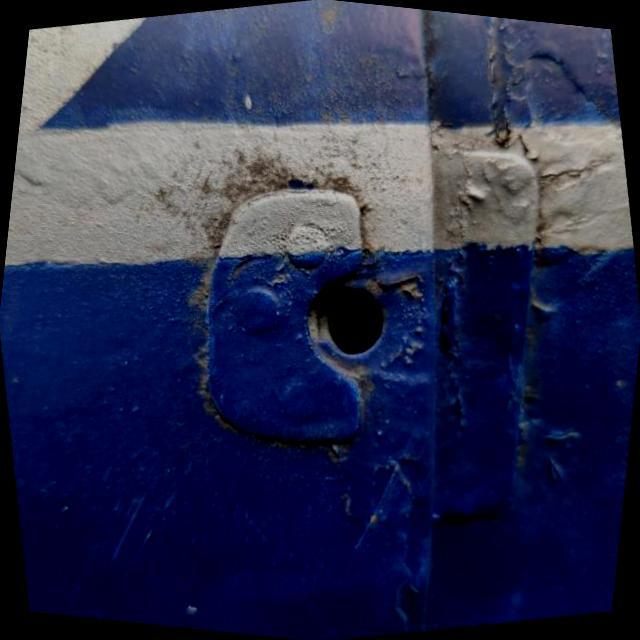Missing Fastener: (306, 283, 388, 357)
